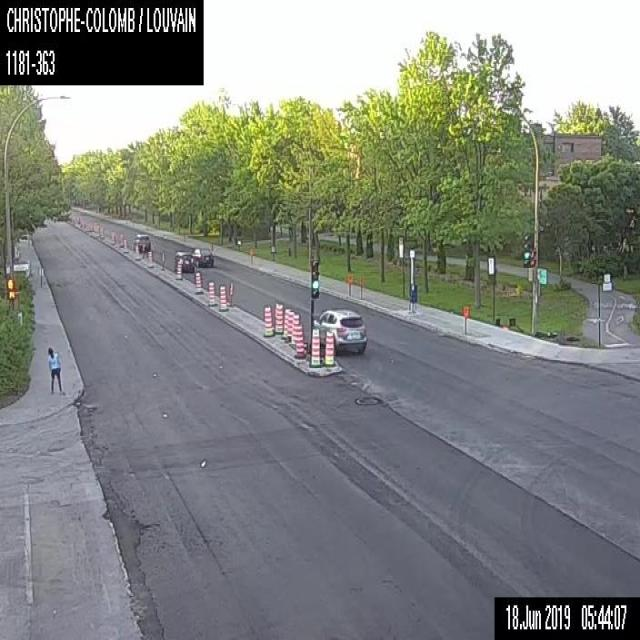construction: (308, 328, 320, 367), (294, 324, 305, 357), (289, 313, 299, 347), (324, 332, 334, 365), (263, 304, 273, 336), (273, 302, 283, 333), (280, 307, 290, 338), (285, 310, 294, 342), (217, 284, 228, 309), (207, 280, 216, 305), (462, 303, 469, 334), (194, 270, 202, 293), (174, 261, 182, 280), (357, 276, 363, 298), (346, 275, 352, 296), (147, 248, 153, 266), (249, 247, 253, 265), (134, 244, 138, 260), (120, 233, 124, 247), (100, 225, 104, 238), (124, 239, 128, 252), (112, 231, 115, 244)
pedestrian: (46, 345, 64, 395)
vehicle: (313, 306, 367, 354), (191, 246, 213, 267), (174, 249, 194, 272), (133, 232, 150, 251)
